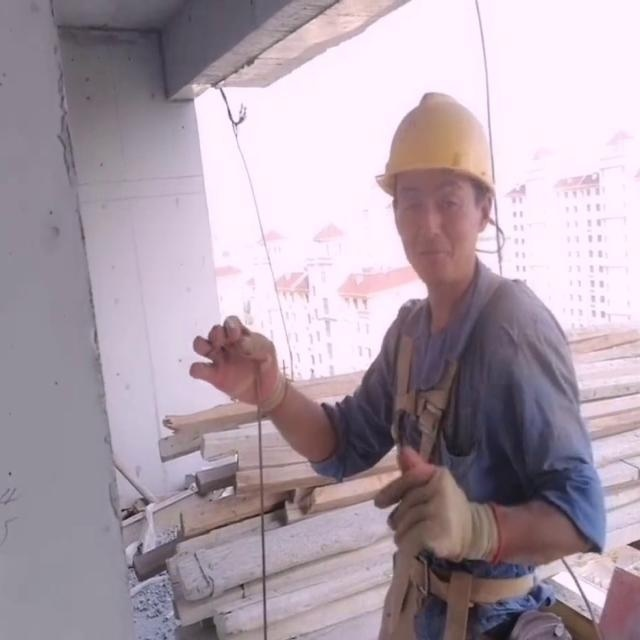Arnes_seguridad: (386, 264, 539, 495)
